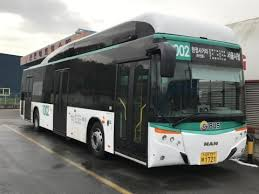entrance: (115, 59, 149, 163)
